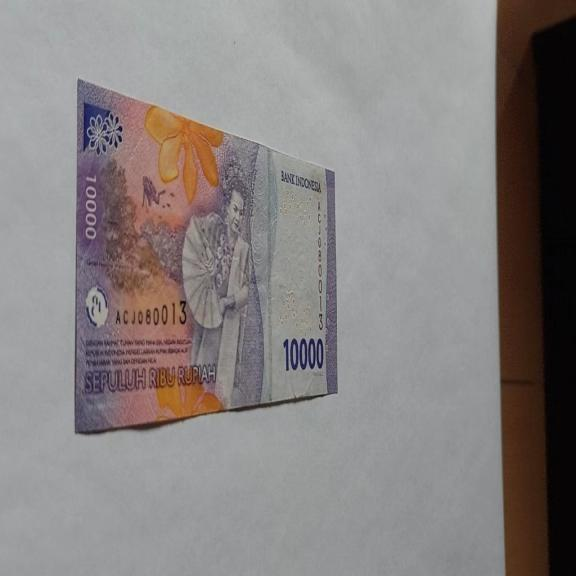Kertas: (74, 77, 338, 434)
